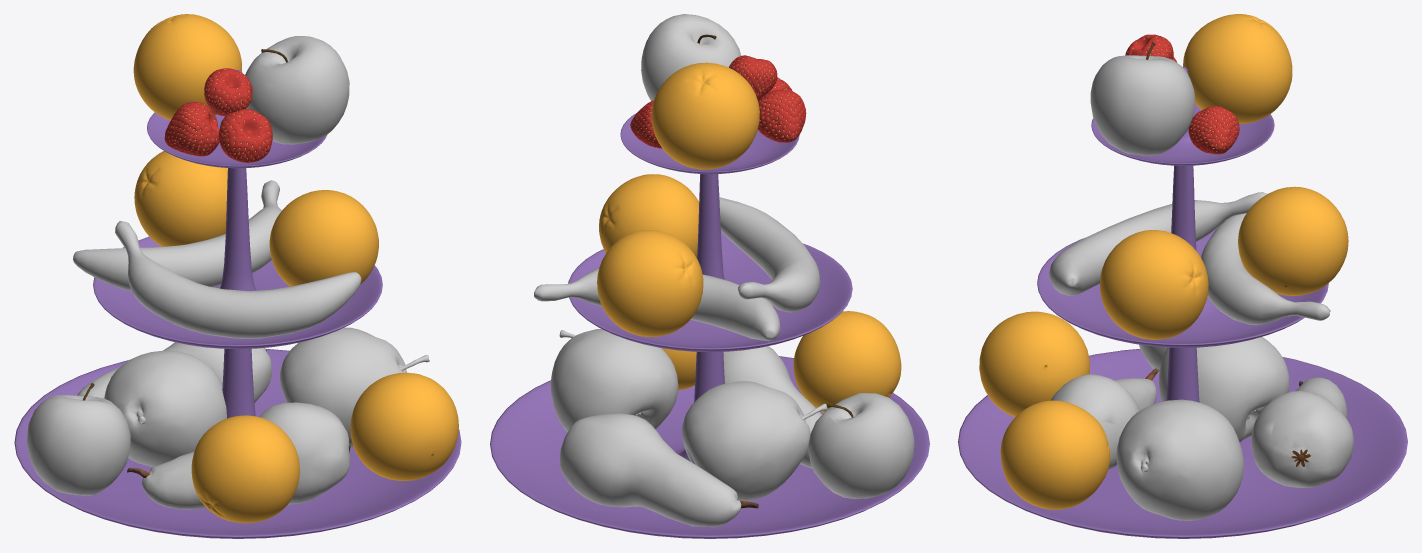
The model's file is FruitBowl_LOD0.fbx.
3 renders of one model, left to right at view 1: azimuth 30°, elevation 25°; view 2: azimuth 150°, elevation 25°; view 3: azimuth 270°, elevation 25°, orthographic. The views are drawn at different scales.
Parts seen in each view (by area): view 1: fruit_bowl, Banana1, Pear1, Orange4, Orange5, Apple2, Apple1, Orange3, Pear3, Pear2, Orange1, Orange2 (+5 smaller); view 2: fruit_bowl, Pear4, Pear1, Pear2, Orange1, Orange2, Apple2, Orange5, Banana1, Orange3, Banana2, Apple1 (+5 smaller); view 3: fruit_bowl, Pear2, Orange4, Orange3, Orange2, Orange1, Apple1, Pear4, Orange5, Pear1, Banana2, Banana1 (+3 smaller).
Part boxes in pixels (x1,y1,x2,y2): fruit_bowl: (14,70,461,538); Banana1: (115,221,361,338); Pear1: (104,350,226,466); Orange4: (350,372,458,480); Orange5: (191,415,299,523); Apple2: (26,383,130,495); Apple1: (245,36,349,144); Orange3: (269,190,378,286); Pear3: (127,402,350,509); Pear2: (279,327,429,448); Orange1: (133,14,241,120); Orange2: (134,151,227,246); fruit_bowl: (490,113,929,538); Pear4: (559,413,758,527); Pear1: (682,381,827,501); Pear2: (550,329,678,431); Orange1: (651,62,759,169); Orange2: (597,230,703,336); Apple2: (808,393,914,498); Orange5: (793,311,901,412); Banana1: (719,197,820,312); Orange3: (599,174,699,257); Banana2: (534,268,780,341); Apple1: (641,14,741,100); fruit_bowl: (958,67,1407,538); Pear2: (1116,399,1243,520); Orange4: (1000,400,1110,509); Orange3: (1100,230,1208,339); Orange2: (1238,186,1348,295); Orange1: (1183,14,1292,123); Apple1: (1090,42,1195,155); Pear4: (1251,377,1353,488); Orange5: (979,311,1089,417); Pear1: (1158,337,1289,442); Banana2: (1201,213,1330,325); Banana1: (1049,192,1267,295).
Size of the model in its own units: 28.93 by 30.69 by 28.3.
